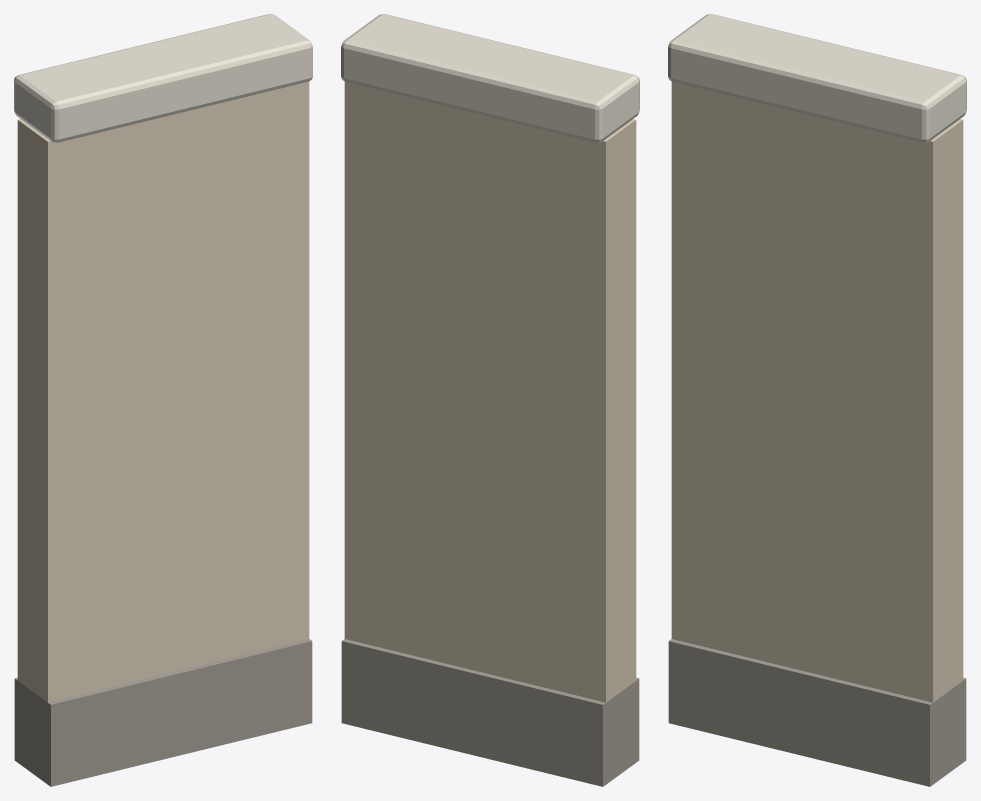
File: Wall.glb
3 renders of one model, left to right at view 1: azimuth 30°, elevation 25°; view 2: azimuth 150°, elevation 25°; view 3: azimuth 330°, elevation 25°, orthographic.
Visible parts, largest first — view 1: Wall; view 2: Wall; view 3: Wall.
Boxes of the visible parts, box(x1,y1,x2,y2) form: Wall: box(14, 14, 312, 786); Wall: box(341, 14, 639, 786); Wall: box(668, 14, 966, 786).
Bounding box in the file's own units: 2 × 5 × 0.56.
